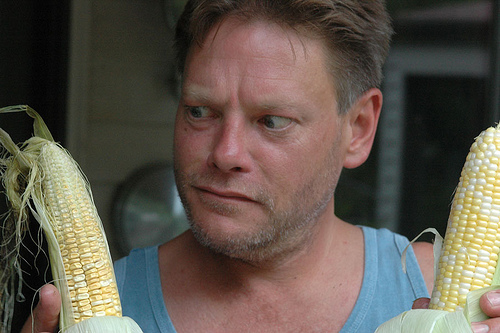corn: (39, 138, 123, 325), (428, 126, 499, 311)
